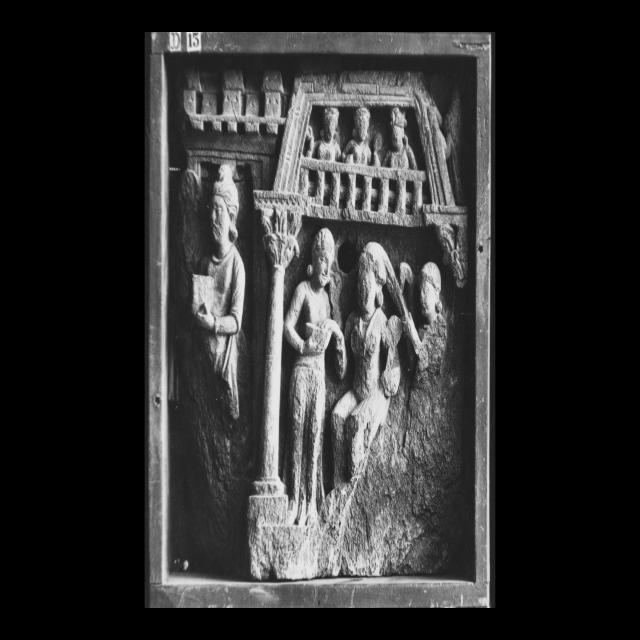buddha-sitting: (331, 244, 401, 487)
